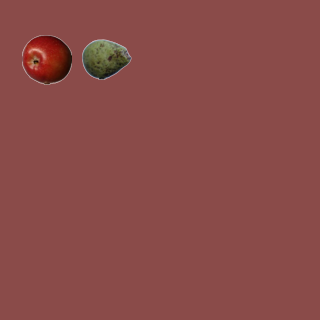Apple Braeburn: (21, 34, 71, 84)
Pear Stone: (81, 34, 131, 84)
